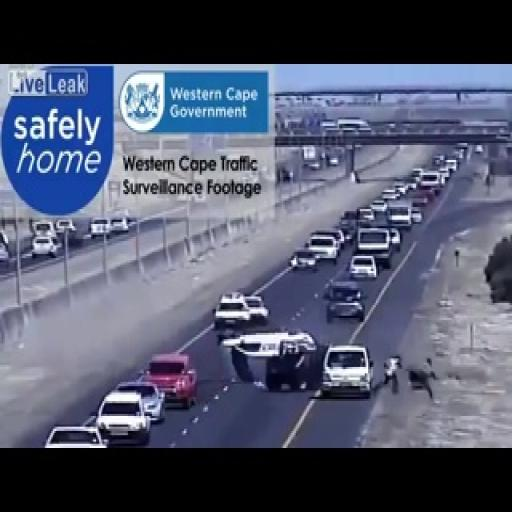Car: (220, 326, 314, 379), (96, 390, 152, 446), (264, 342, 325, 392), (320, 343, 374, 398), (144, 354, 198, 409), (214, 292, 250, 333), (44, 425, 108, 448), (358, 227, 389, 268), (327, 287, 366, 315), (306, 234, 340, 262), (238, 294, 269, 323), (32, 233, 62, 259), (349, 254, 378, 280), (290, 249, 320, 271), (316, 228, 346, 250), (87, 216, 110, 240), (389, 204, 410, 226), (337, 217, 358, 239), (110, 210, 130, 232), (55, 218, 77, 237), (33, 221, 56, 238), (0, 230, 10, 262), (412, 192, 430, 209), (357, 208, 376, 224), (340, 210, 358, 226), (388, 228, 402, 248), (370, 199, 388, 214), (381, 188, 398, 202), (393, 182, 408, 196), (410, 168, 424, 183), (410, 209, 424, 223), (455, 143, 468, 158), (445, 158, 458, 172), (281, 168, 293, 182), (326, 152, 338, 166), (306, 160, 321, 171), (433, 154, 445, 166), (474, 144, 484, 154)
Major Accident: (219, 324, 332, 402)
